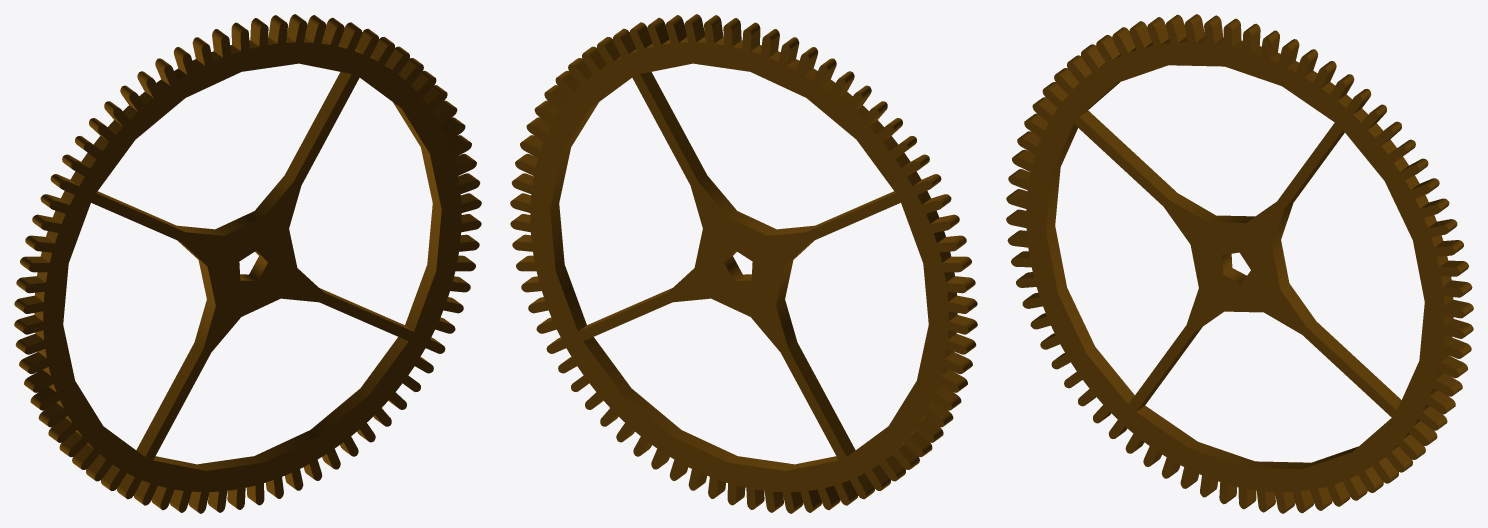
Rendered from Copie de roue ass 4^Copie de Assemblage4_Horloge Comtoise Verge - Sonnerie.obj.
The picture shows the model from 3 angles, left to right: view 1: azimuth 30°, elevation 25°; view 2: azimuth 150°, elevation 25°; view 3: azimuth 330°, elevation 25°; orthographic projection.
Visible parts, largest first — view 1: Face_164, Face_149, Face_161, Face_152, Face_154, Face_155, Face_151; view 2: Face_1, Face_149, Face_161, Face_152, Face_154, Face_155, Face_151; view 3: Face_164, Face_153, Face_149, Face_156, Face_158, Face_159, Face_155.
Boxes of the visible parts, left/top/right/bottom form: Face_164: left=23, top=20, right=481, bottom=513; Face_149: left=153, top=337, right=408, bottom=470; Face_161: left=393, top=102, right=441, bottom=331; Face_152: left=136, top=342, right=203, bottom=456; Face_154: left=284, top=72, right=351, bottom=181; Face_155: left=177, top=175, right=293, bottom=235; Face_151: left=177, top=240, right=215, bottom=348; Face_1: left=510, top=20, right=968, bottom=513; Face_149: left=583, top=337, right=838, bottom=470; Face_161: left=550, top=102, right=598, bottom=331; Face_152: left=788, top=342, right=855, bottom=456; Face_154: left=640, top=72, right=707, bottom=181; Face_155: left=698, top=175, right=814, bottom=235; Face_151: left=776, top=240, right=814, bottom=348; Face_164: left=1006, top=20, right=1464, bottom=513; Face_153: left=1046, top=124, right=1134, bottom=404; Face_149: left=1136, top=405, right=1358, bottom=469; Face_156: left=1079, top=110, right=1177, bottom=199; Face_158: left=1307, top=321, right=1401, bottom=410; Face_159: left=1272, top=203, right=1315, bottom=327; Face_155: left=1169, top=193, right=1275, bottom=222.
Size of the model in its own units: 0.0677 by 0.0677 by 0.0023.
